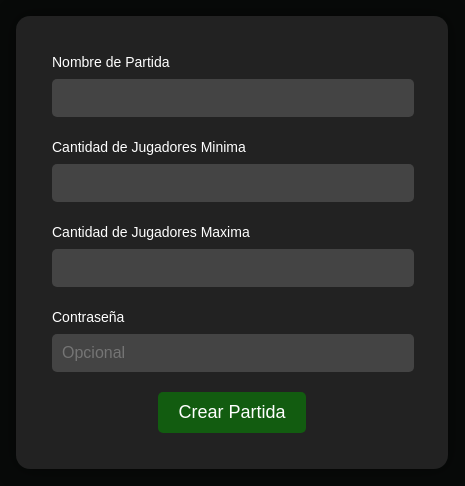
Test: CreateGame › should show an error when the minimum is greater than the maximum
Type "Juego 123" into the field named "lobby_name". click: (233, 98)
box: [52,79,414,117]
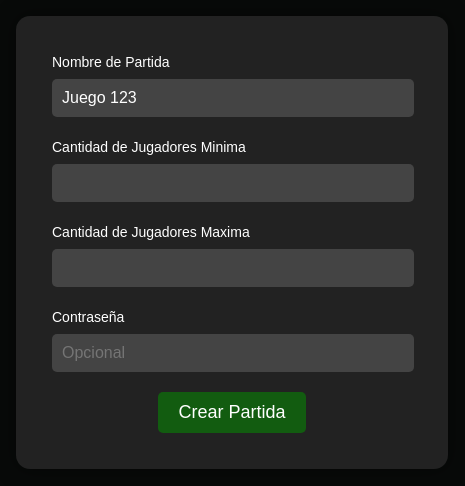
Type "9" into the number field named "min_players". click: (233, 183)
box: [52,164,414,202]
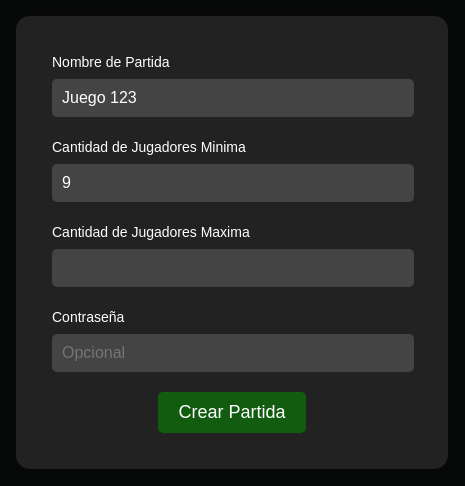
Type "8" into the number field named "max_players". click: (233, 268)
box: [52,249,414,287]
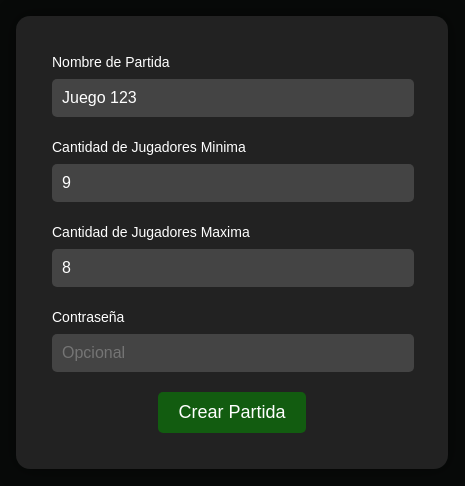
Type "123" into the password field named "password". click: (233, 353)
box: [52,334,414,372]
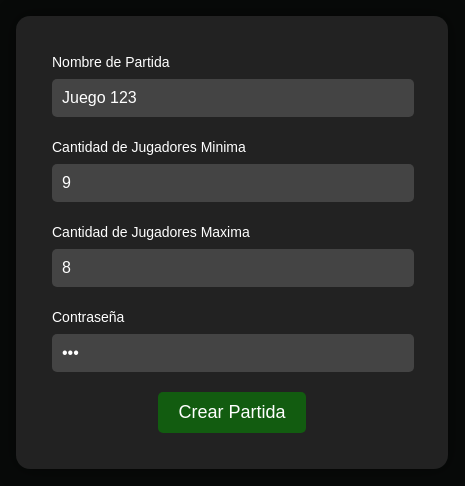
Click the button. click: (232, 412)
box: [158,392,306,433]
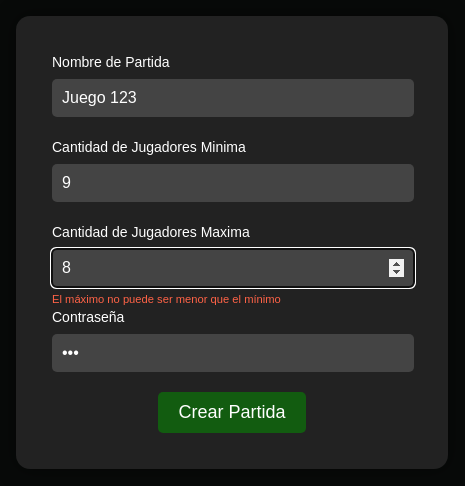
Check: the text "El máximo no puede ser menor que el mínimo" is shown, box [52,293,281,305]
